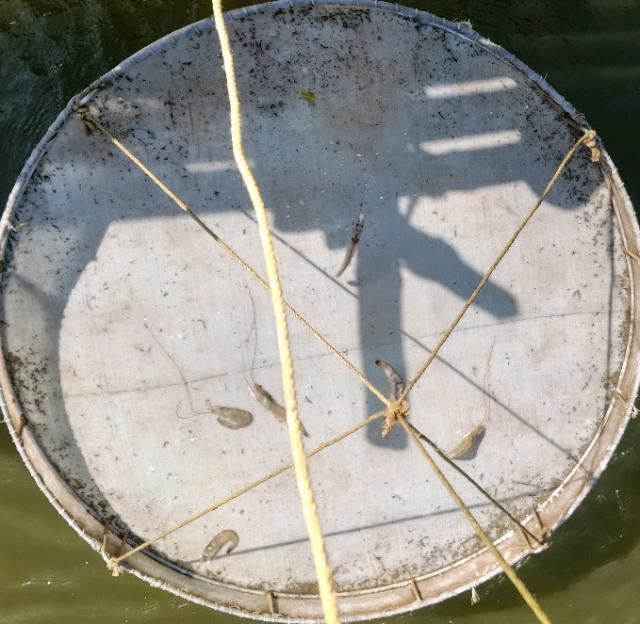shrimp: (250, 385, 309, 439), (336, 214, 363, 277), (443, 425, 484, 458), (374, 360, 404, 403), (198, 407, 253, 429), (202, 530, 238, 562), (367, 553, 383, 577)
